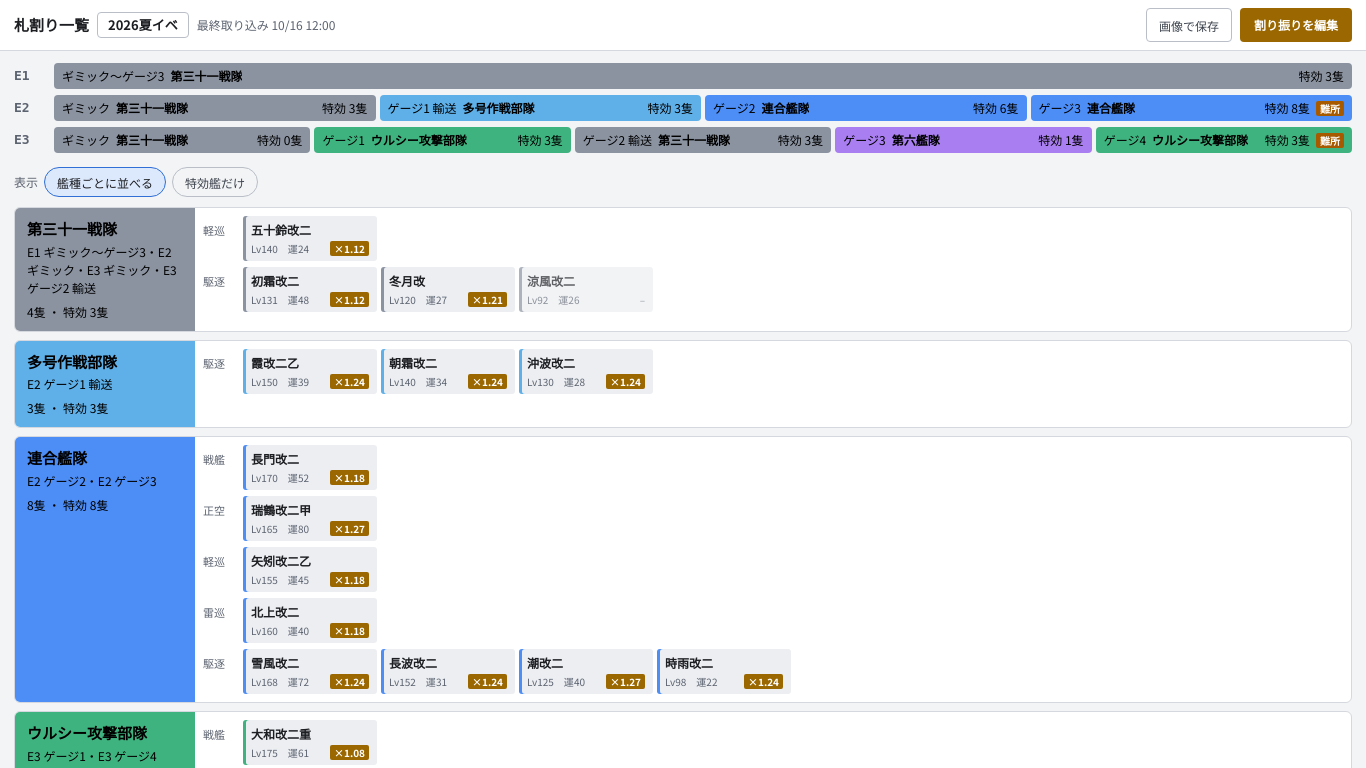
一覧の画面（/list） › 読み込めたとき › 「画像で保存」で画像で保存のウィンドウを開き（後ろの一覧は触れない）、「やめる」で閉じると「画像で保存」にフォーカスが戻る
This screenshot has width=1366, height=768.
Click the button "画像で保存": (1189, 25) [1146,8,1232,42]
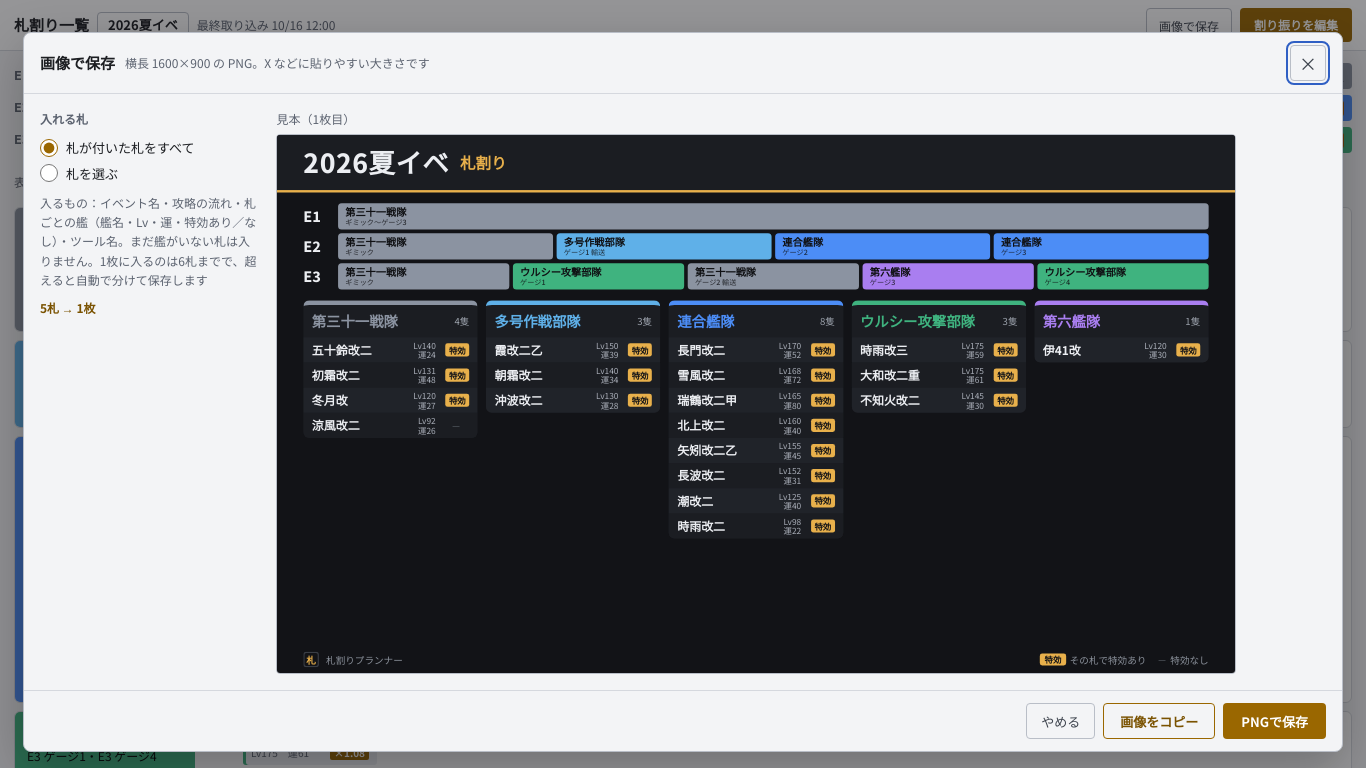
// 実行・検証：閉じる
Click the button "やめる": (1061, 721) [1026,703,1095,739]
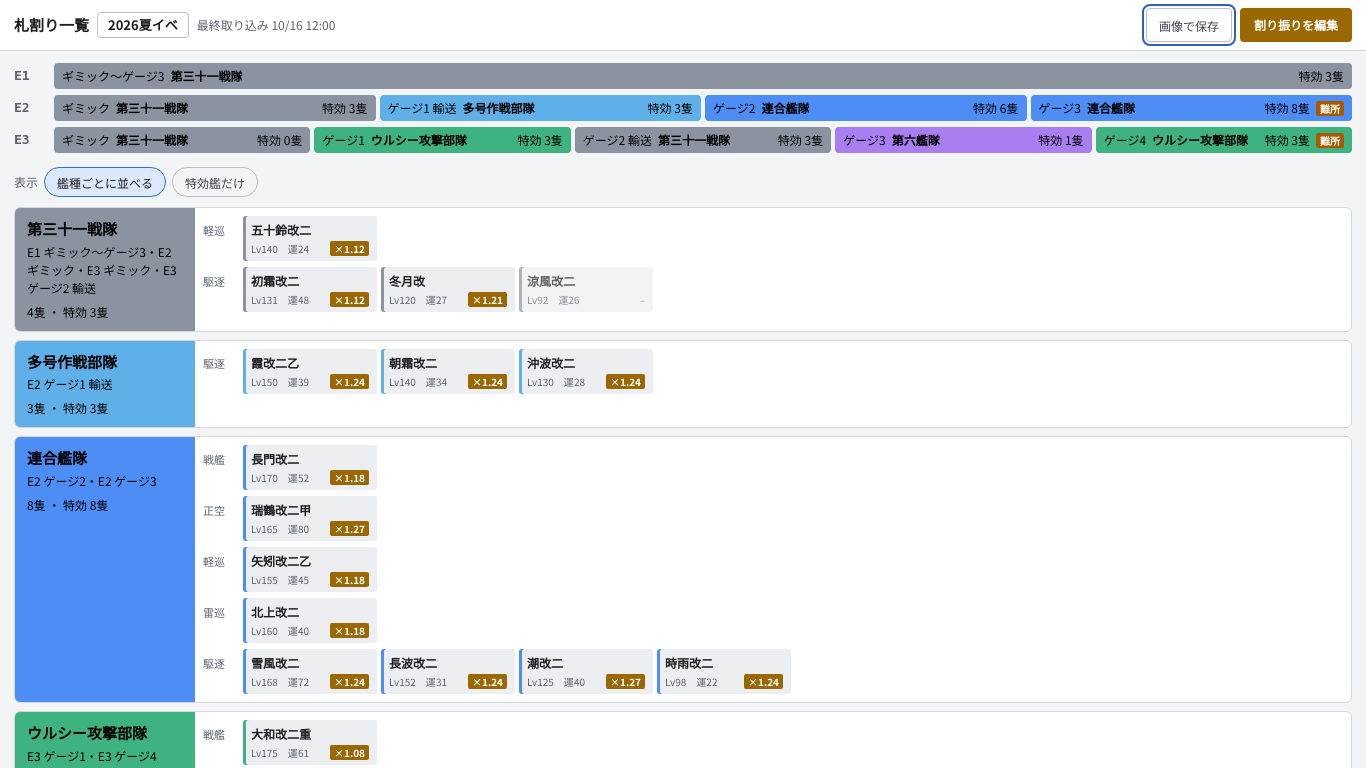
Result: the dialog is gone
